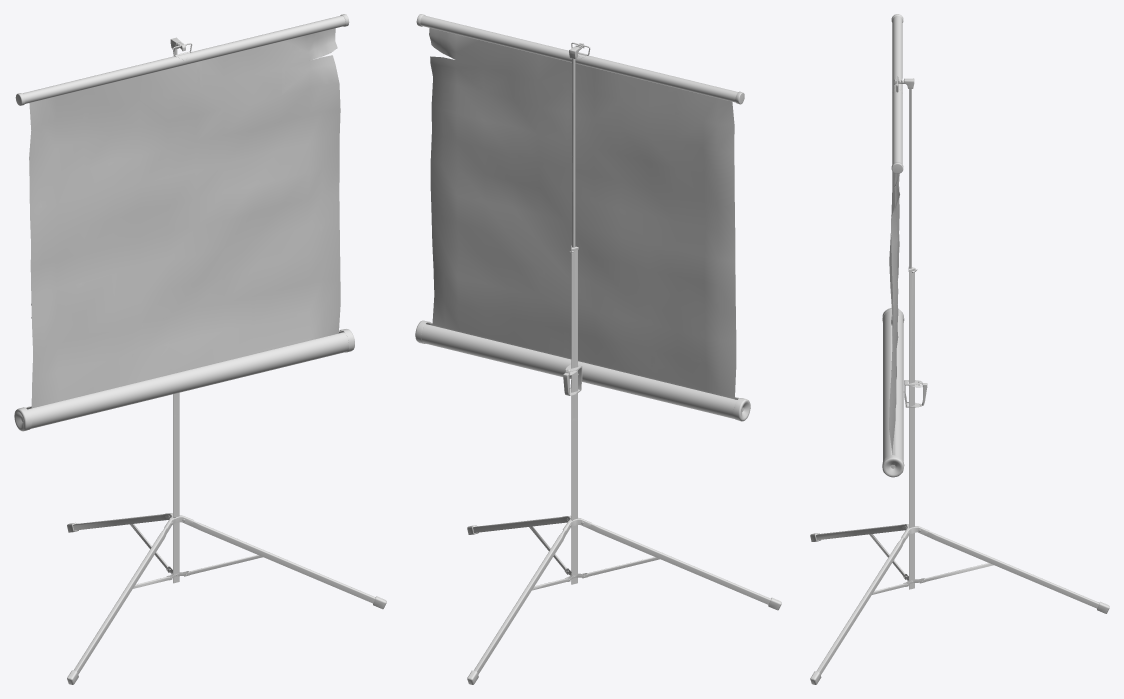
3 views of the same model, side by side, from view 1: azimuth 30°, elevation 25°; view 2: azimuth 150°, elevation 25°; view 3: azimuth 270°, elevation 25° (orthographic). The views are drawn at different scales.
Parts seen in each view (by area): view 1: projector_screen, projector_screen_frame; view 2: projector_screen, projector_screen_frame; view 3: projector_screen, projector_screen_frame.
Part boxes in pixels (<box>): projector_screen: <box>14,14,354,431</box>; projector_screen_frame: <box>67,392,386,684</box>; projector_screen: <box>415,14,750,421</box>; projector_screen_frame: <box>467,245,781,684</box>; projector_screen: <box>882,14,927,477</box>; projector_screen_frame: <box>810,267,1109,684</box>.
Size of the model in its own units: 1.09 by 1.8 by 0.9158.
Materials: 2 (2 with a texture image).
